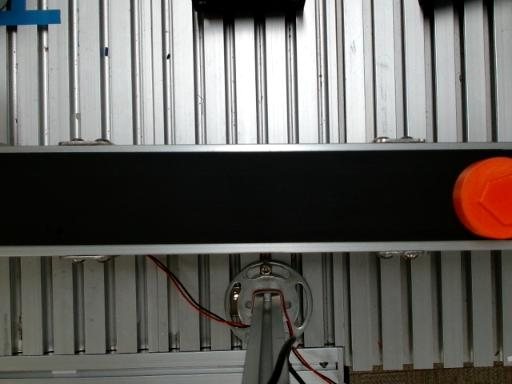Brown_Waper: (480, 175, 511, 225)
Orange_Waper: (454, 157, 511, 238)
